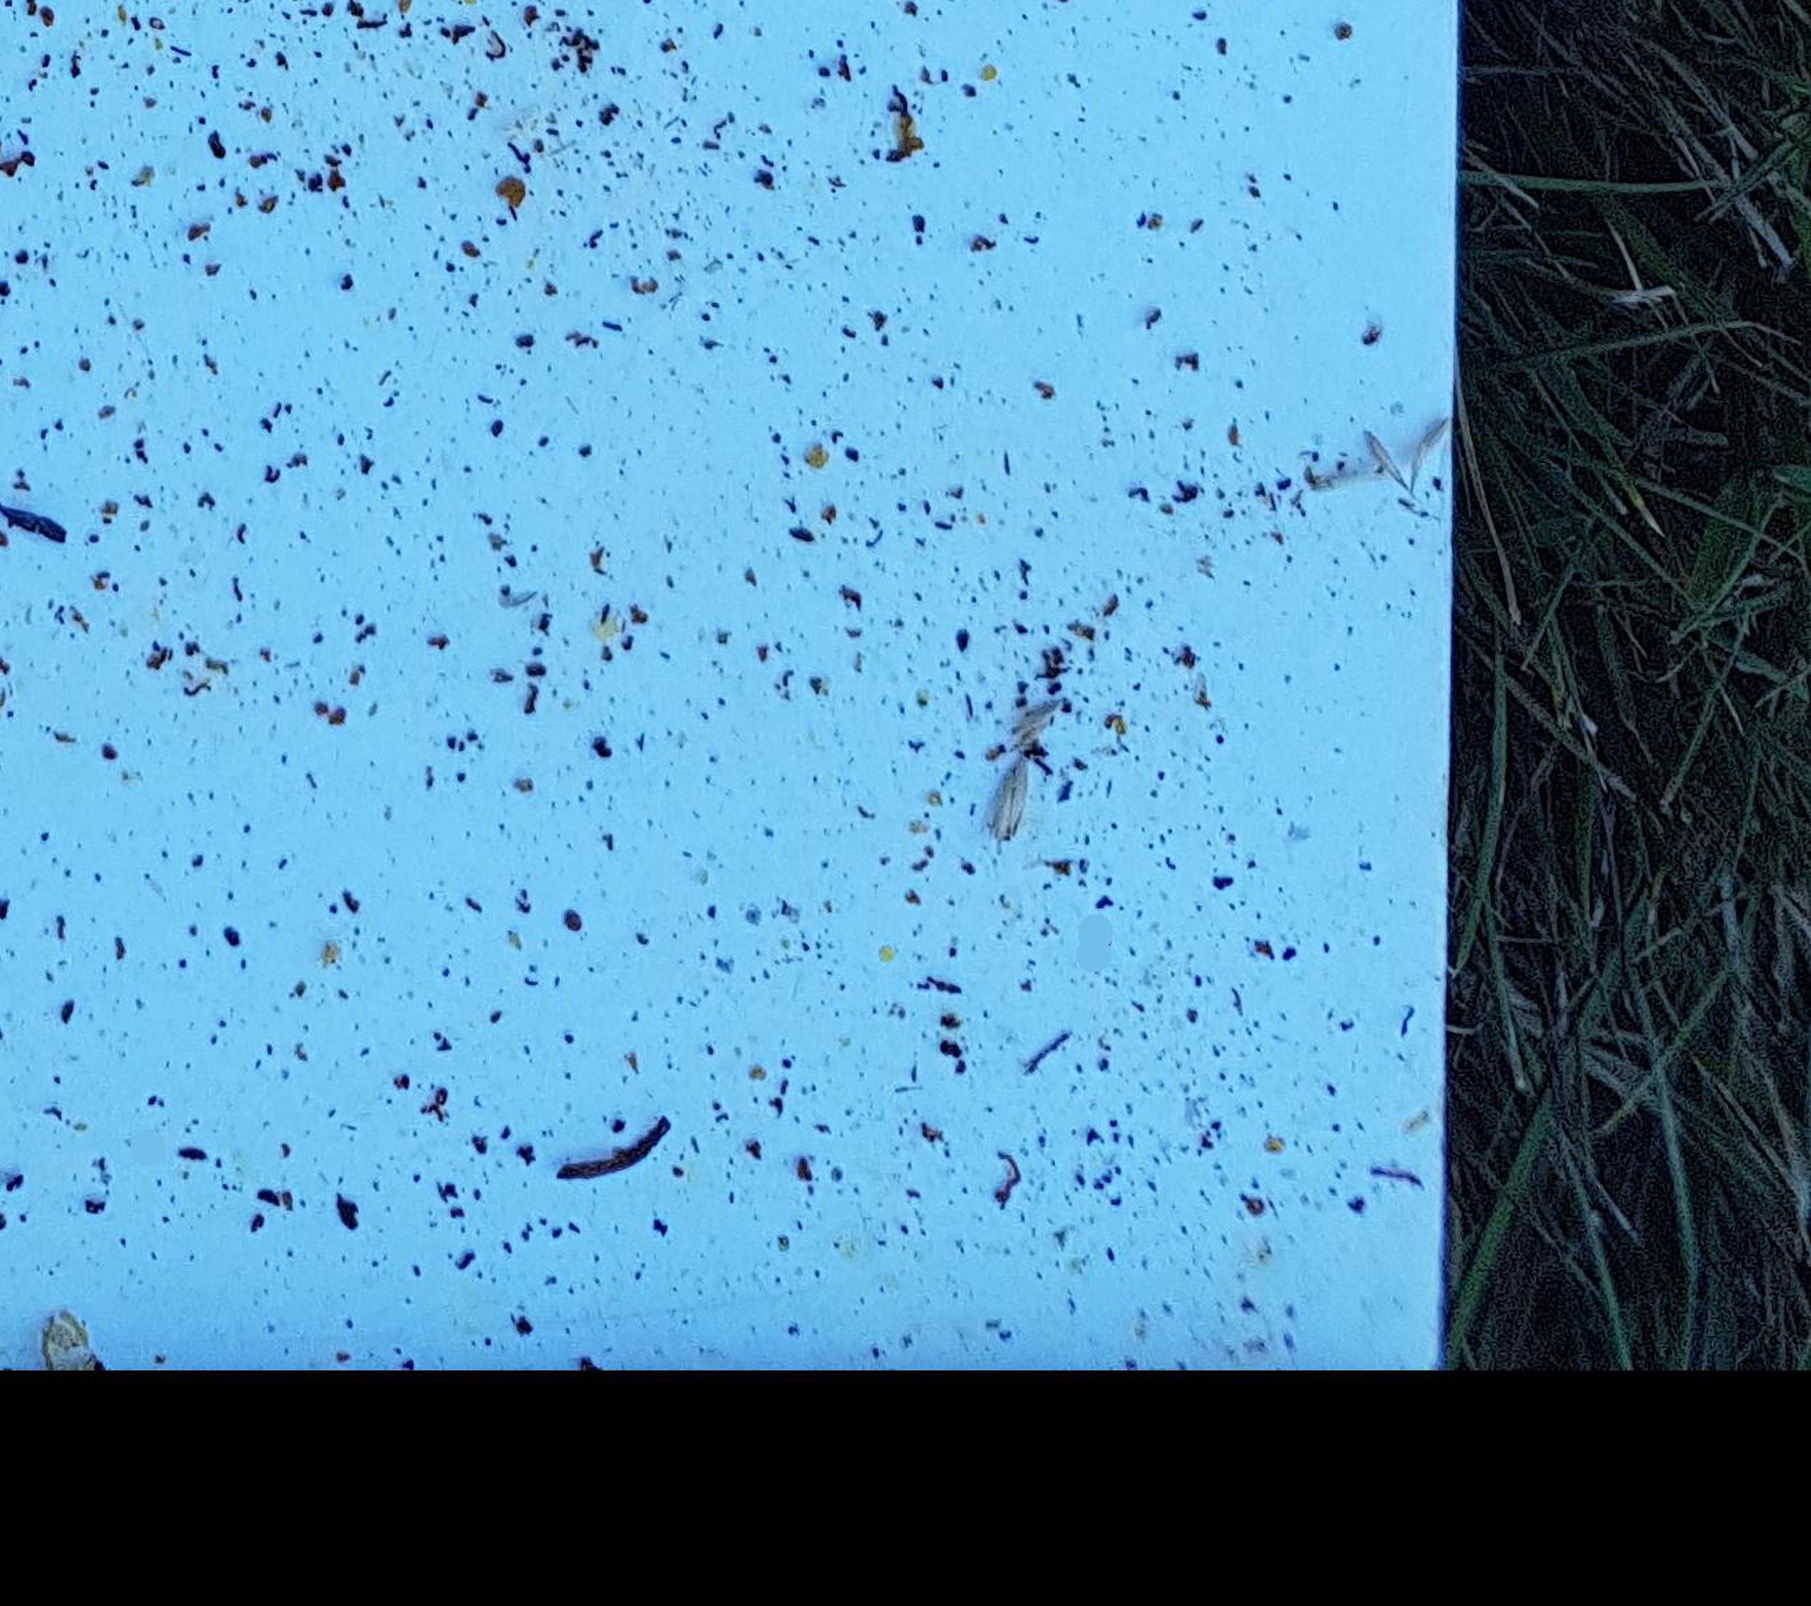Varroa: (554, 908, 586, 944)
